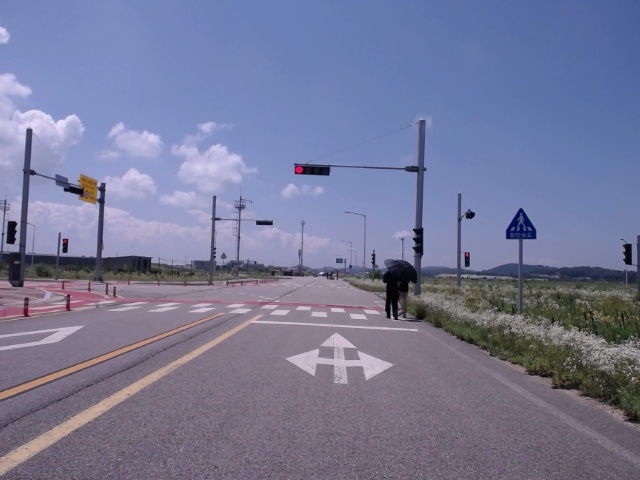red_4: (294, 165, 329, 176)
